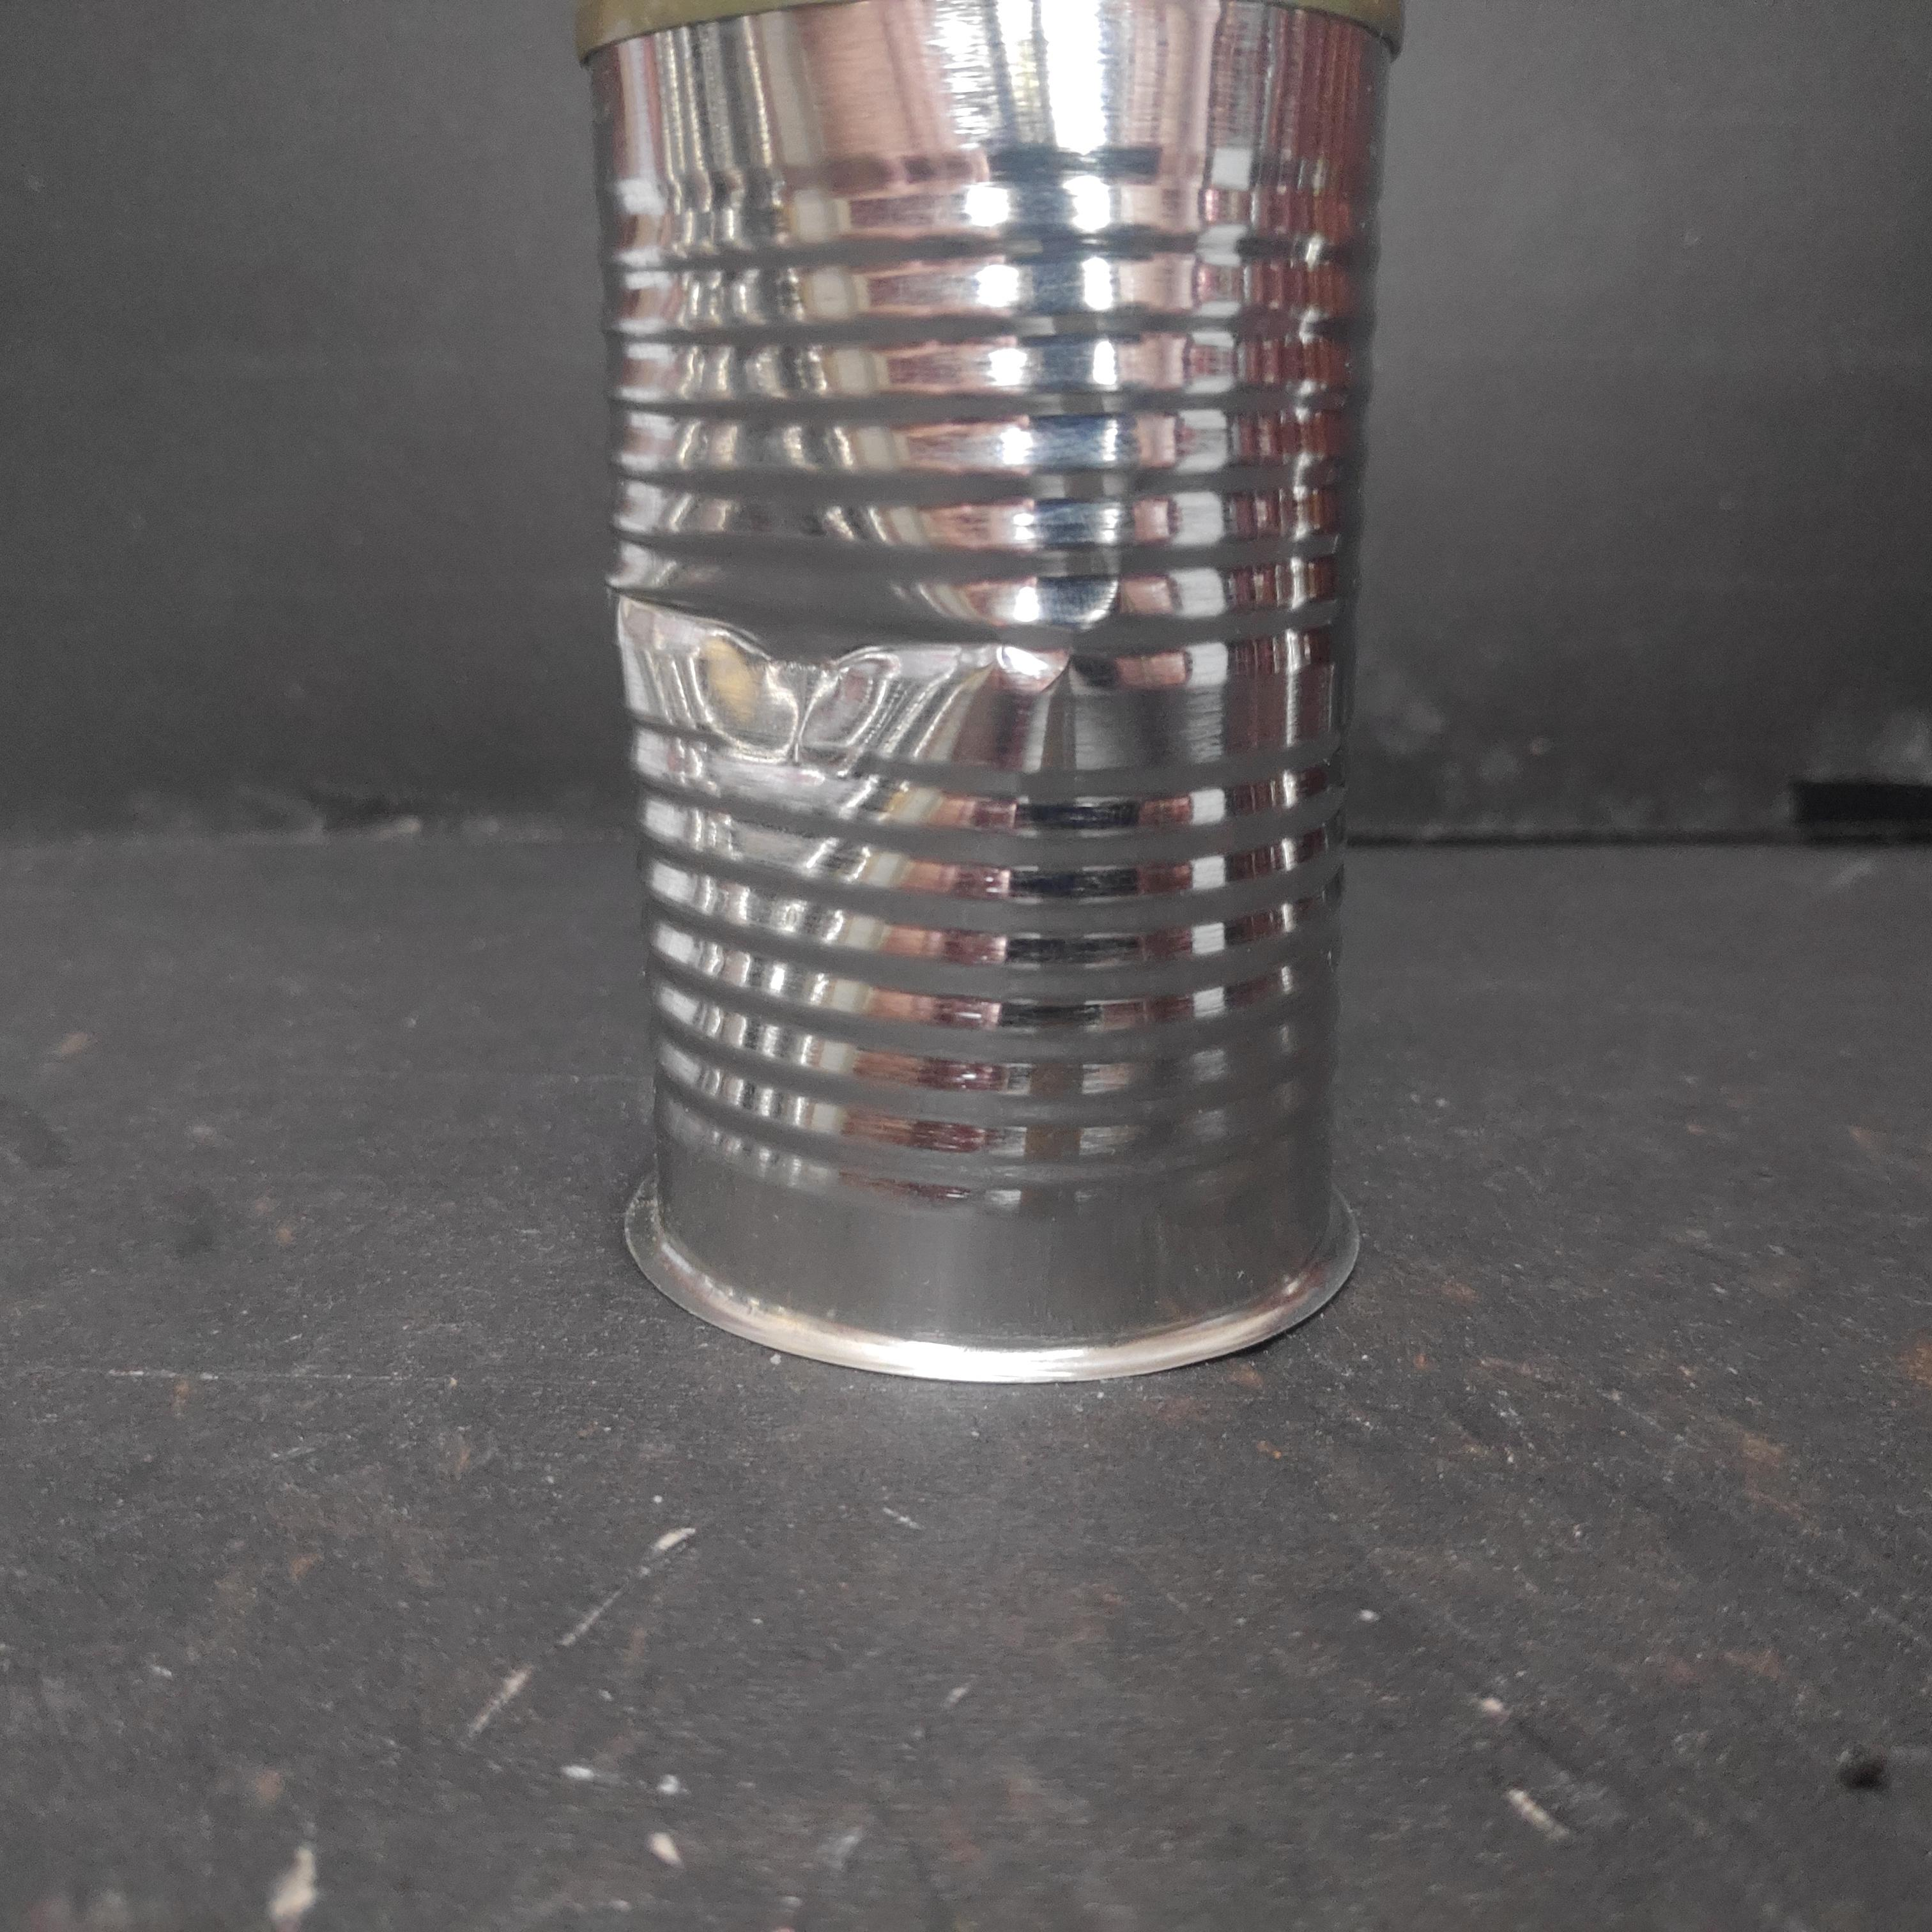Minor Defect: (563, 0, 1413, 1393)
